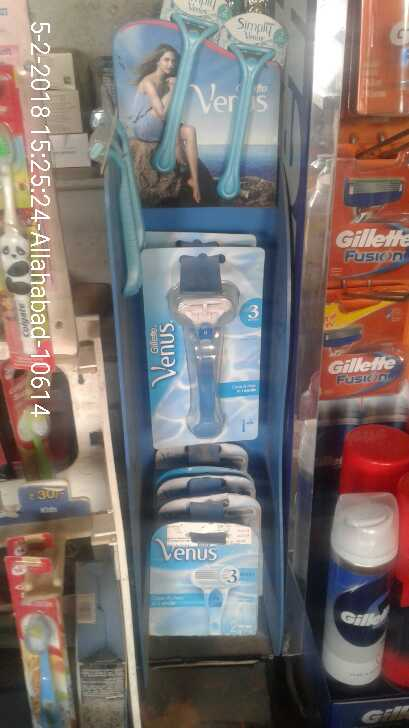beauty: (140, 236, 260, 447), (328, 492, 392, 686), (152, 521, 255, 636), (316, 280, 409, 398), (333, 156, 409, 270)
